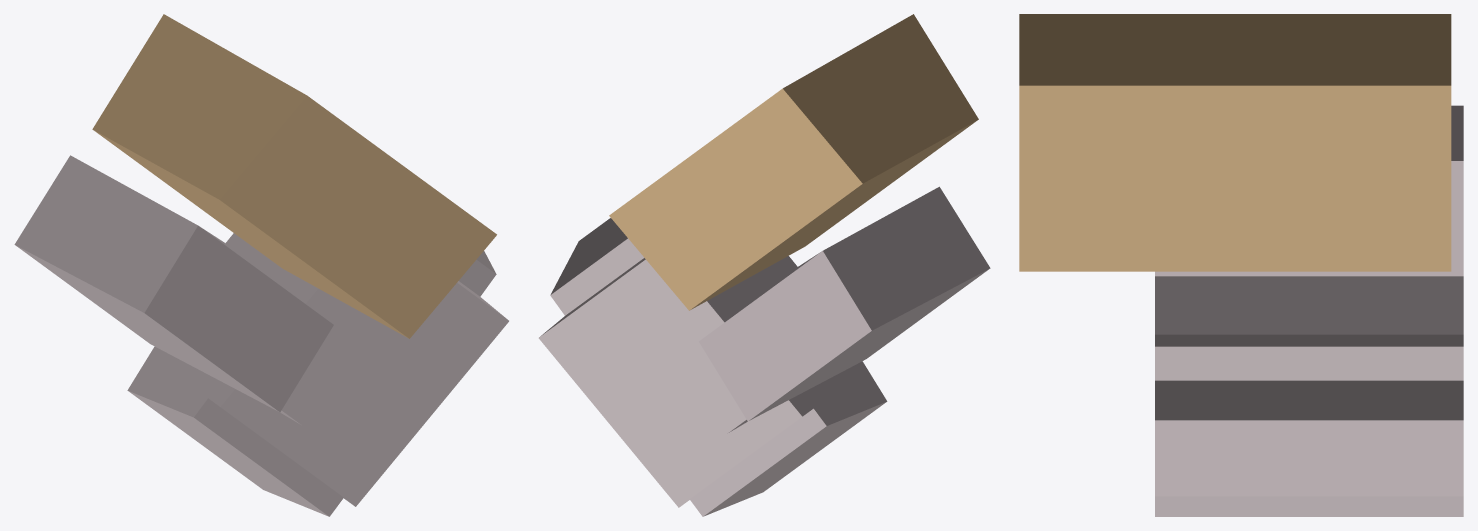
3 views of the same model, side by side, from view 1: azimuth 30°, elevation 25°; view 2: azimuth 150°, elevation 25°; view 3: azimuth 270°, elevation 25° (orthographic). The views are drawn at different scales.
Visible parts, largest first — view 1: 0_1_3_2_2_1_2_1_3_3; view 2: 0_1_3_2_2_1_2_1_3_3; view 3: 0_1_3_2_2_1_2_1_3_3.
Part boxes in pixels (box(x1,y1,x2,y2)): 0_1_3_2_2_1_2_1_3_3: box(14, 14, 508, 516); 0_1_3_2_2_1_2_1_3_3: box(538, 14, 990, 516); 0_1_3_2_2_1_2_1_3_3: box(1019, 14, 1463, 516).
Size of the model in its own units: 22.91 by 25.36 by 21.6.
